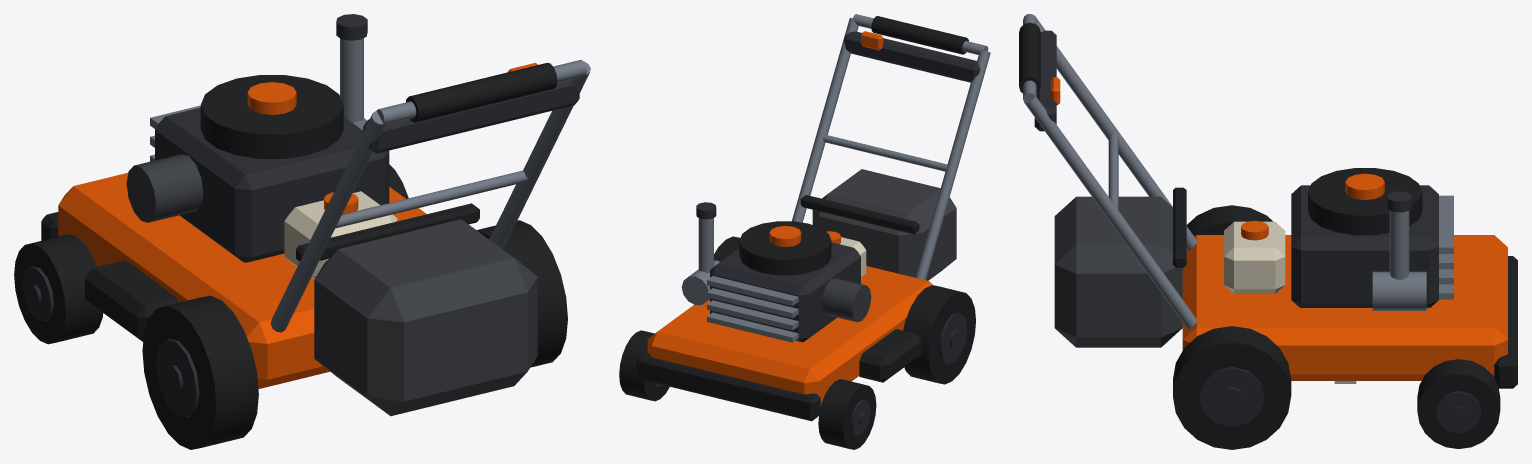
Rendered from mower_petrol.fbx.
3 renders of one model, left to right at view 1: azimuth 30°, elevation 25°; view 2: azimuth 150°, elevation 25°; view 3: azimuth 270°, elevation 25°, orthographic. The views are drawn at different scales.
Visible parts, largest first — view 1: Body, Wheel_RL, Wheel_FL, Wheel_RR; view 2: Body, Wheel_RL, Wheel_FL, Wheel_FR, Wheel_RR; view 3: Body, Wheel_RR, Wheel_FR, Wheel_RL.
Boxes of the visible parts, x1,y1,x2,y2 form: Body: [41, 14, 590, 416]; Wheel_RL: [142, 295, 258, 449]; Wheel_FL: [14, 234, 103, 344]; Wheel_RR: [476, 220, 567, 367]; Body: [636, 14, 990, 421]; Wheel_RL: [903, 285, 975, 384]; Wheel_FL: [818, 379, 876, 449]; Wheel_FR: [619, 330, 669, 401]; Wheel_RR: [714, 236, 740, 261]; Body: [1019, 14, 1517, 388]; Wheel_RR: [1173, 326, 1291, 449]; Wheel_FR: [1417, 359, 1500, 448]; Wheel_RL: [1186, 205, 1272, 236].
Size of the model in its own units: 3.42 by 3.71 by 5.06.
